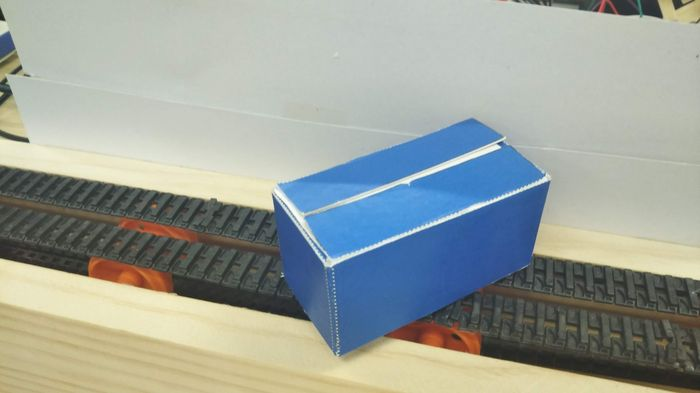box3: (270, 115, 551, 360)
